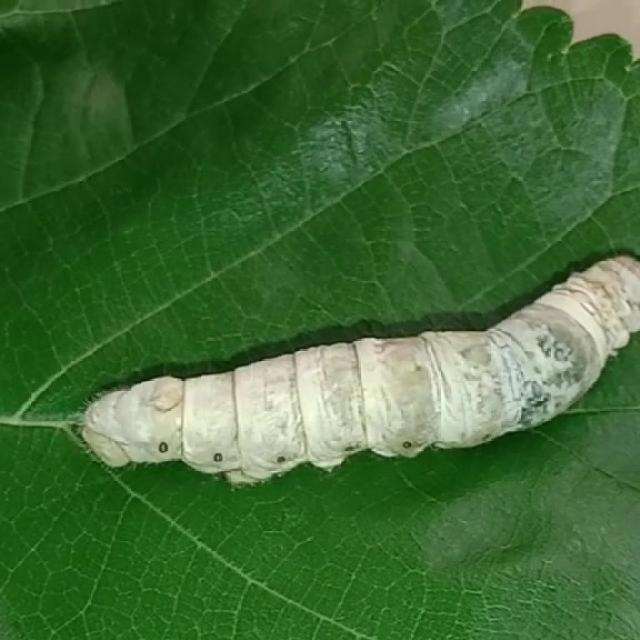Grasserie: (54, 222, 640, 538)
